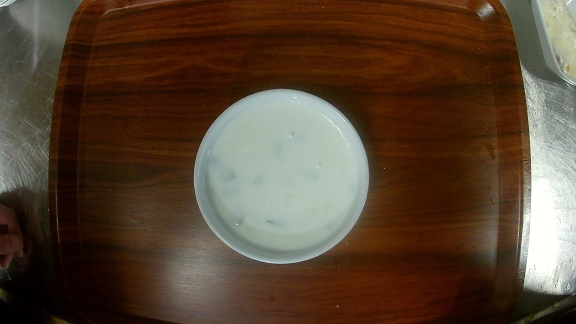cacik: (193, 88, 370, 264)
